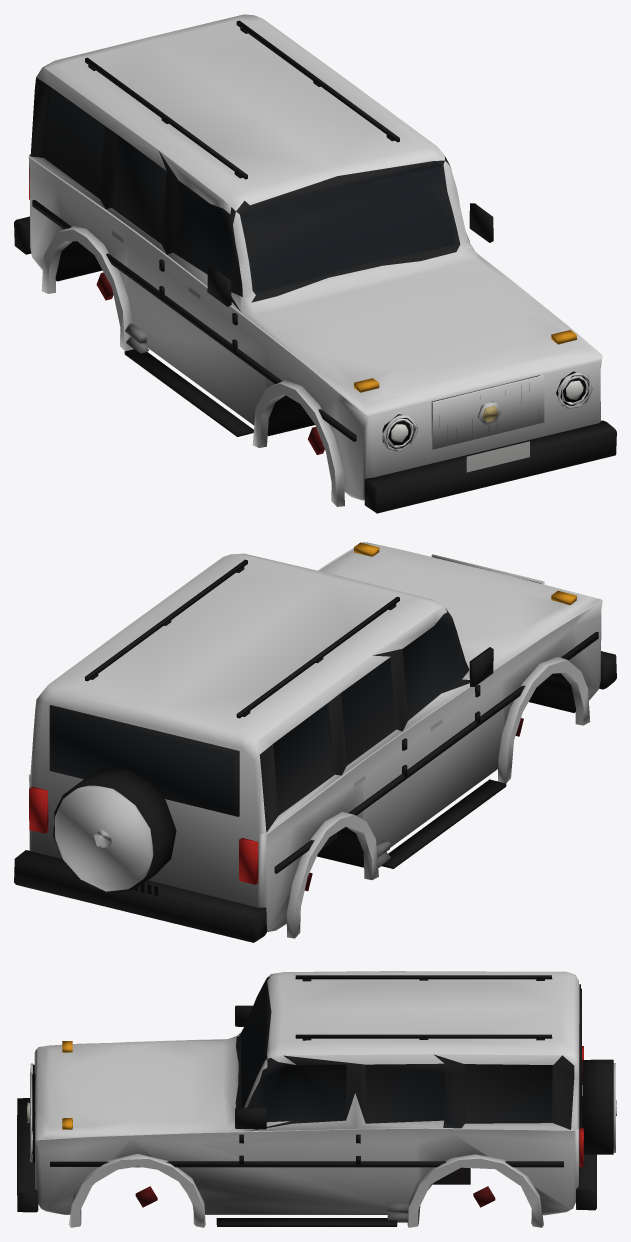
The model's file is gajraj_lod2.glb.
The picture shows the model from 3 angles, top to bottom: view 1: azimuth 30°, elevation 25°; view 2: azimuth 150°, elevation 25°; view 3: azimuth 270°, elevation 25°; orthographic projection. The views are drawn at different scales.
Parts seen in each view (by area): view 1: gajraj.001; view 2: gajraj.001; view 3: gajraj.001.
Part boxes in pixels (<box>): gajraj.001: <box>14,14,616,513</box>; gajraj.001: <box>14,542,616,942</box>; gajraj.001: <box>17,971,616,1227</box>.
Size of the model in its own units: 2.12 by 1.64 by 5.16.
